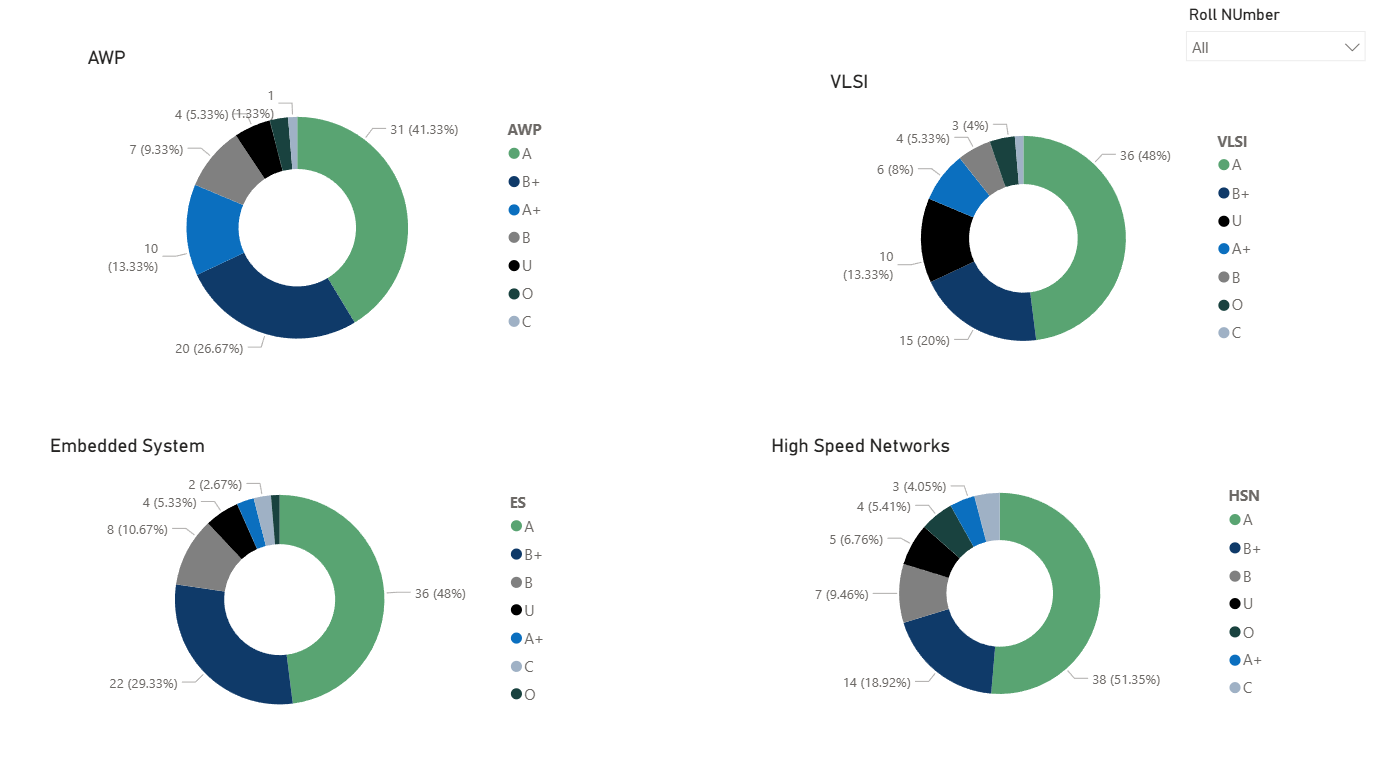

This screenshot's page, from the dashboard's own definition file:
{"tool":"powerbi","page":{"name":"Page 1","canvas":[1280,720],"ordinal":0},"visuals":[{"type":"donutChart","title":"AWP","fields":{"Category":["Table 1 (VI sem).AWP"],"Y":["Table.grade"]},"box":[81.4,53.1,439.8,306.4],"z":0},{"type":"donutChart","title":"Embedded System","fields":{"Category":["Table 1 (VI sem).ES"],"Y":["Table.Measurees"]},"box":[47.5,403.6,465.8,280.4],"z":1000},{"type":"donutChart","title":"VLSI","fields":{"Category":["Table 1 (VI sem).VLSI"],"Y":["Table.vsligrade"]},"box":[753,74.6,408.2,284.9],"z":2000},{"type":"donutChart","title":"High Speed Networks","fields":{"Category":["Table 1 (VI sem).HSN"],"Y":["Table.Measurehsn"]},"box":[699.9,403.6,472.6,269.1],"z":3000},{"type":"slicer","title":"Student wise Report","fields":{"Values":["Table 1 (VI sem).REG NO"]},"box":[1069.6,10.2,183.2,106.3],"z":4000}]}

Visuals, with their boxes in screenshot pixels (x1, y1, x2, y2), scaled from the page's 1280x720 canvas onto the 1385x770 screenshot:
"AWP" donutChart: [88, 57, 564, 384]
"Embedded System" donutChart: [51, 432, 555, 732]
"VLSI" donutChart: [815, 80, 1256, 384]
"High Speed Networks" donutChart: [757, 432, 1269, 719]
"Student wise Report" slicer: [1157, 11, 1356, 125]
